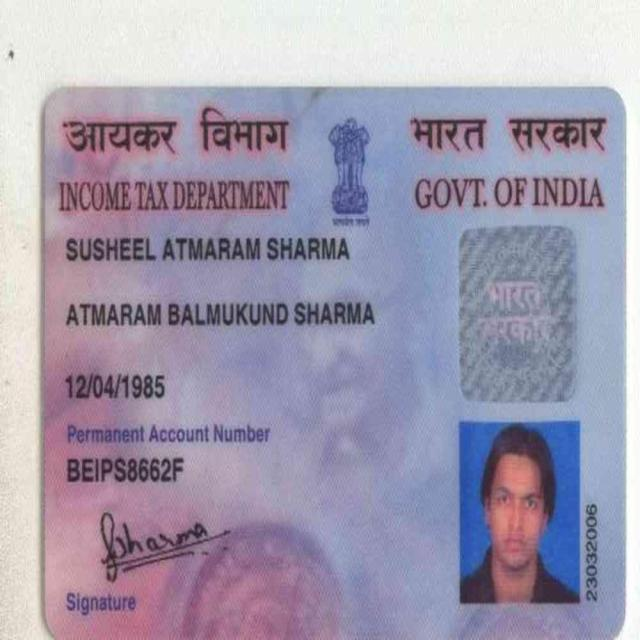pan_card: (45, 95, 621, 634)
